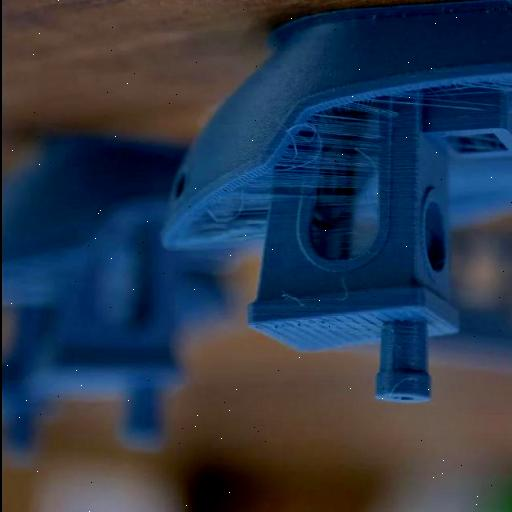stringing: (232, 116, 386, 194), (318, 86, 508, 114)
